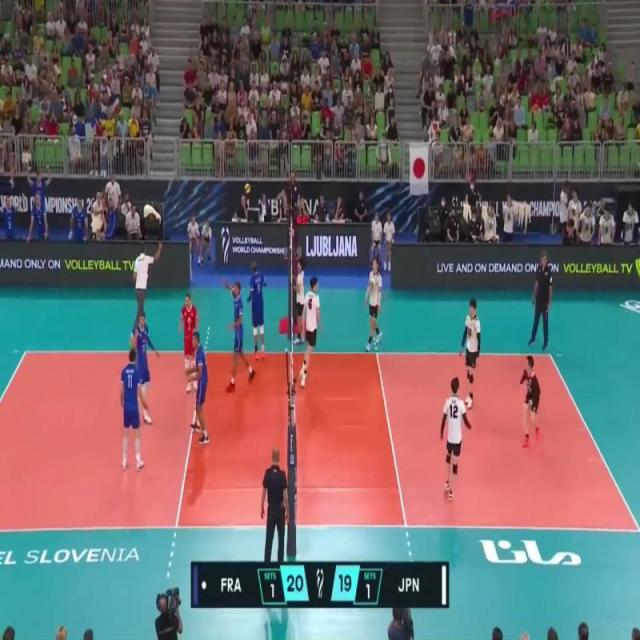volleyball: (244, 182, 251, 196)
